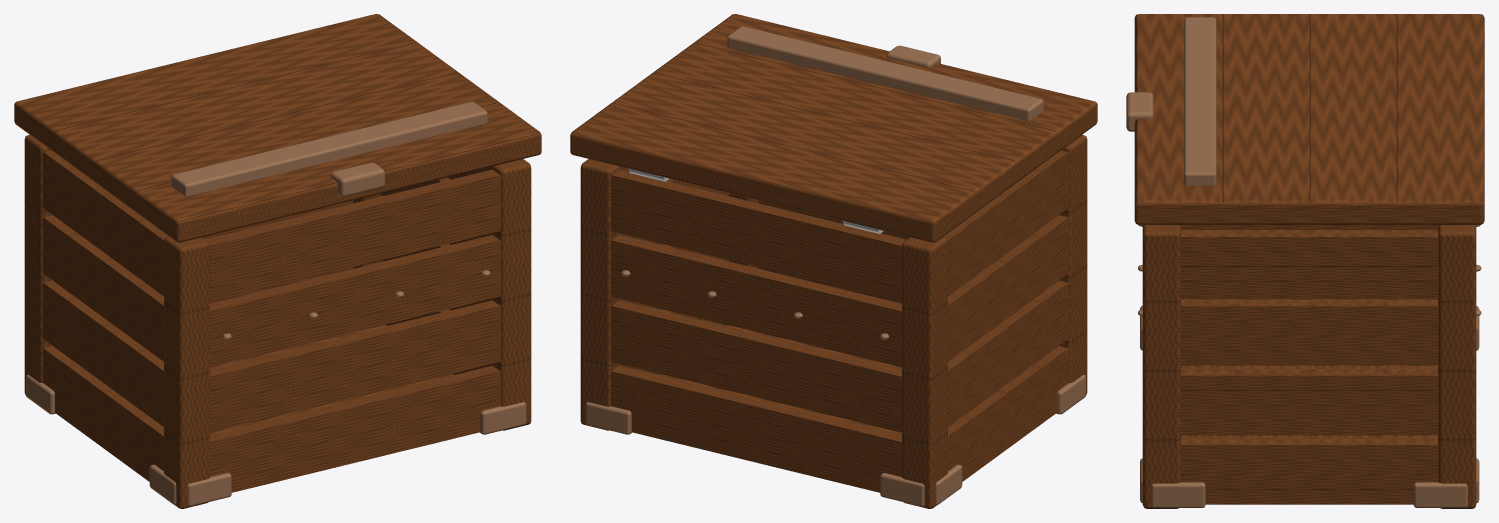
The model's file is crate.glb.
The picture shows the model from 3 angles, left to right: view 1: azimuth 30°, elevation 25°; view 2: azimuth 150°, elevation 25°; view 3: azimuth 270°, elevation 25°; orthographic projection. The views are drawn at different scales.
Parts seen in each view (by area): view 1: supply-crate, lid/timber, lid/rust; view 2: supply-crate, lid/timber, lid/rust; view 3: supply-crate, lid/timber, lid/rust.
Part boxes in pixels (bbox=[...]): supply-crate: bbox=[24, 135, 531, 508]; lid/timber: bbox=[14, 14, 541, 242]; lid/rust: bbox=[171, 101, 487, 196]; supply-crate: bbox=[580, 135, 1087, 508]; lid/timber: bbox=[570, 14, 1097, 242]; lid/rust: bbox=[727, 26, 1043, 120]; supply-crate: bbox=[1138, 224, 1481, 508]; lid/timber: bbox=[1134, 14, 1484, 224]; lid/rust: bbox=[1126, 17, 1216, 185].
Size of the model in its own units: 0.82 by 0.655 by 0.655.
Materials: 3 (1 with a texture image).
